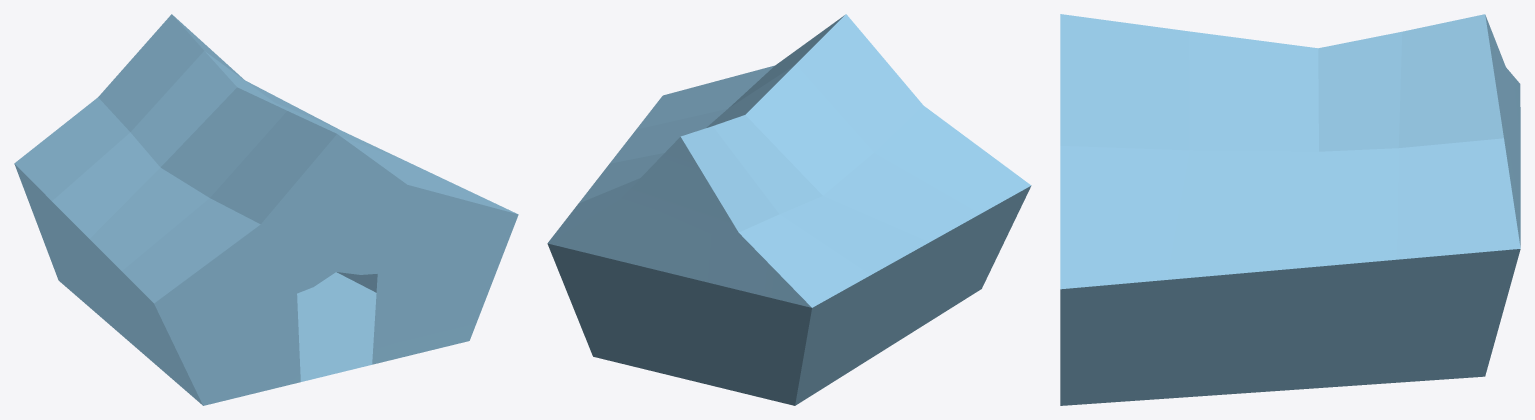
Rendered from innenzelt_06.fbx.
3 renders of one model, left to right at view 1: azimuth 30°, elevation 25°; view 2: azimuth 150°, elevation 25°; view 3: azimuth 270°, elevation 25°, orthographic. The views are drawn at different scales.
Visible parts, largest first — view 1: dach, wände, Deckfläche_2; view 2: dach, wände, Deckfläche_1; view 3: dach, wände, Deckfläche_1.
Part boxes in pixels (x1,y1,x2,y2): dach: (14,14,517,303); wände: (14,164,518,405); Deckfläche_2: (154,134,518,303); dach: (548,14,1030,307); wände: (547,185,1031,405); Deckfläche_1: (548,137,811,307); dach: (1060,14,1520,289); wände: (1060,249,1520,405); Deckfläche_1: (1485,15,1520,247).
Size of the model in its own units: 767 by 481 by 650.
